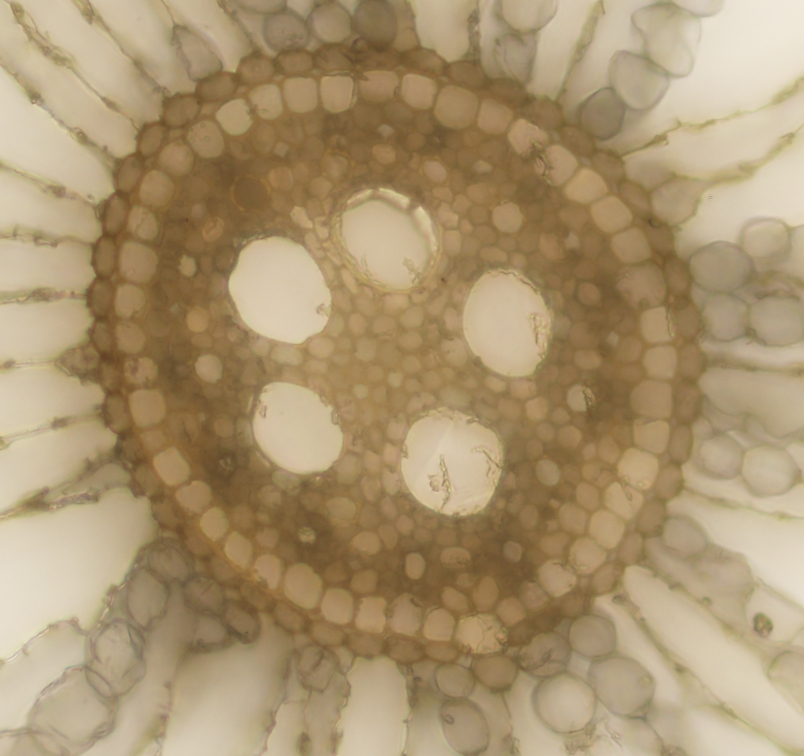lm: (399, 408, 505, 516), (228, 234, 332, 344), (335, 186, 438, 294), (461, 268, 552, 378), (251, 380, 344, 476)
